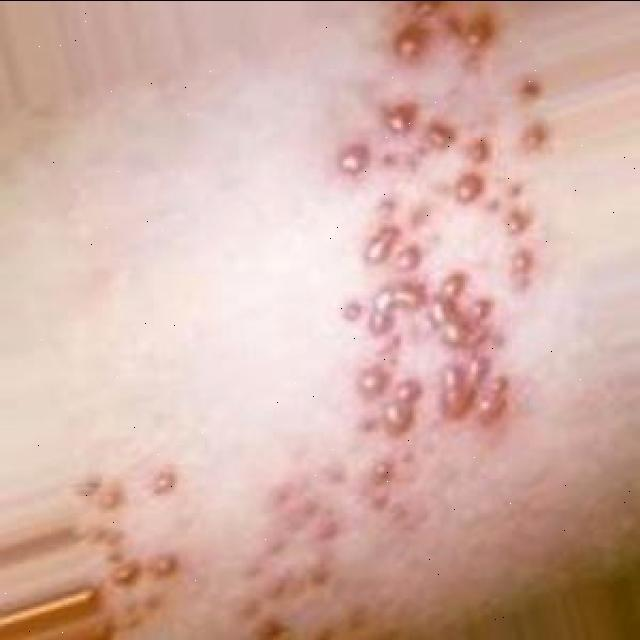Shingles: (339, 6, 549, 440), (77, 466, 181, 630)
